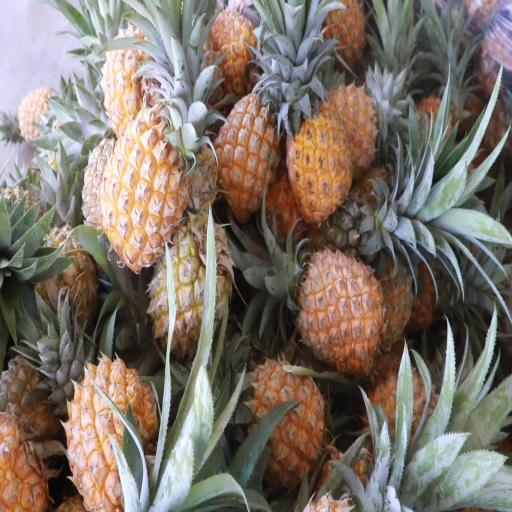------------------------------: (150, 214, 226, 344)
Pineapple - v8 v1: (70, 357, 154, 512), (105, 116, 189, 260), (300, 252, 385, 366), (246, 366, 328, 476), (216, 83, 285, 205), (287, 114, 352, 224), (100, 29, 163, 124), (204, 9, 260, 75)
